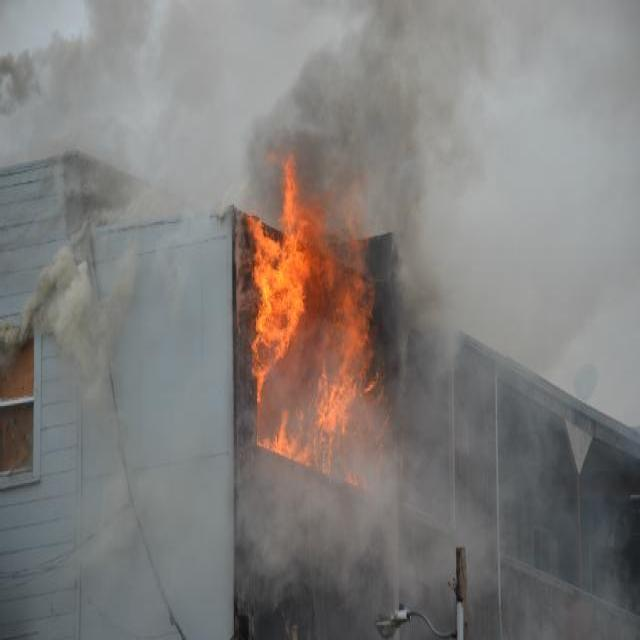Fire: (232, 140, 382, 489)
